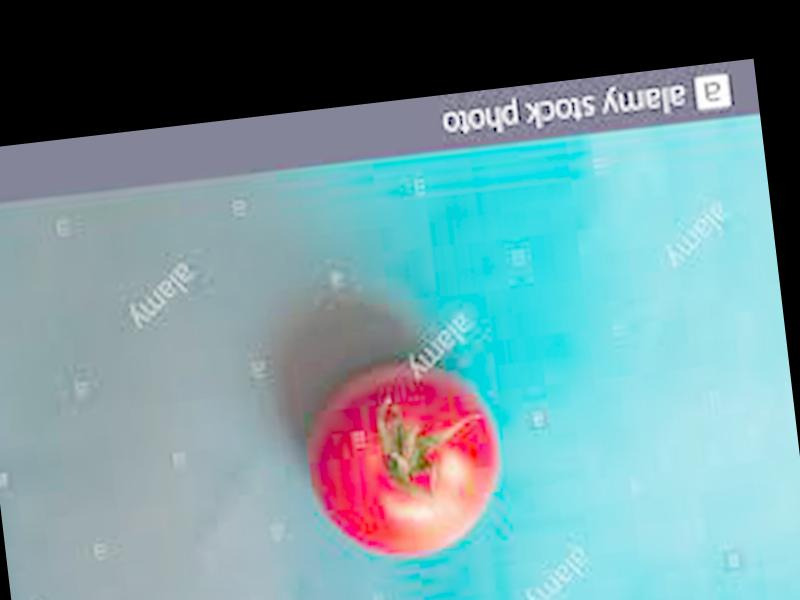Tomato: (301, 353, 508, 567)
